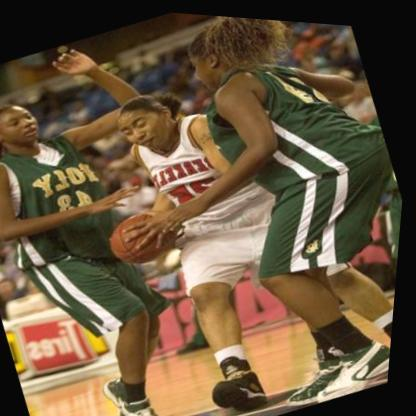basketball: (104, 197, 187, 274)
